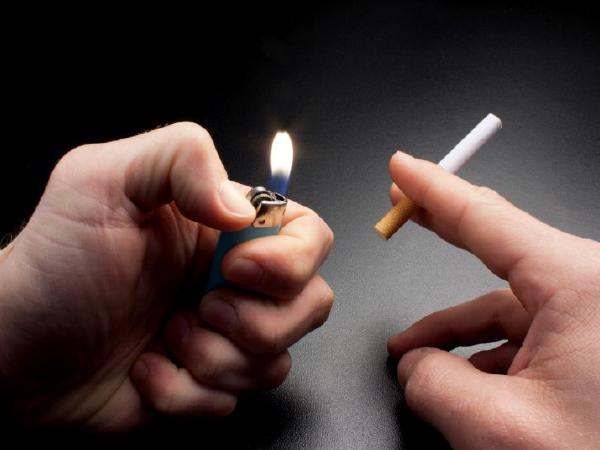cigarette: (370, 102, 506, 255)
